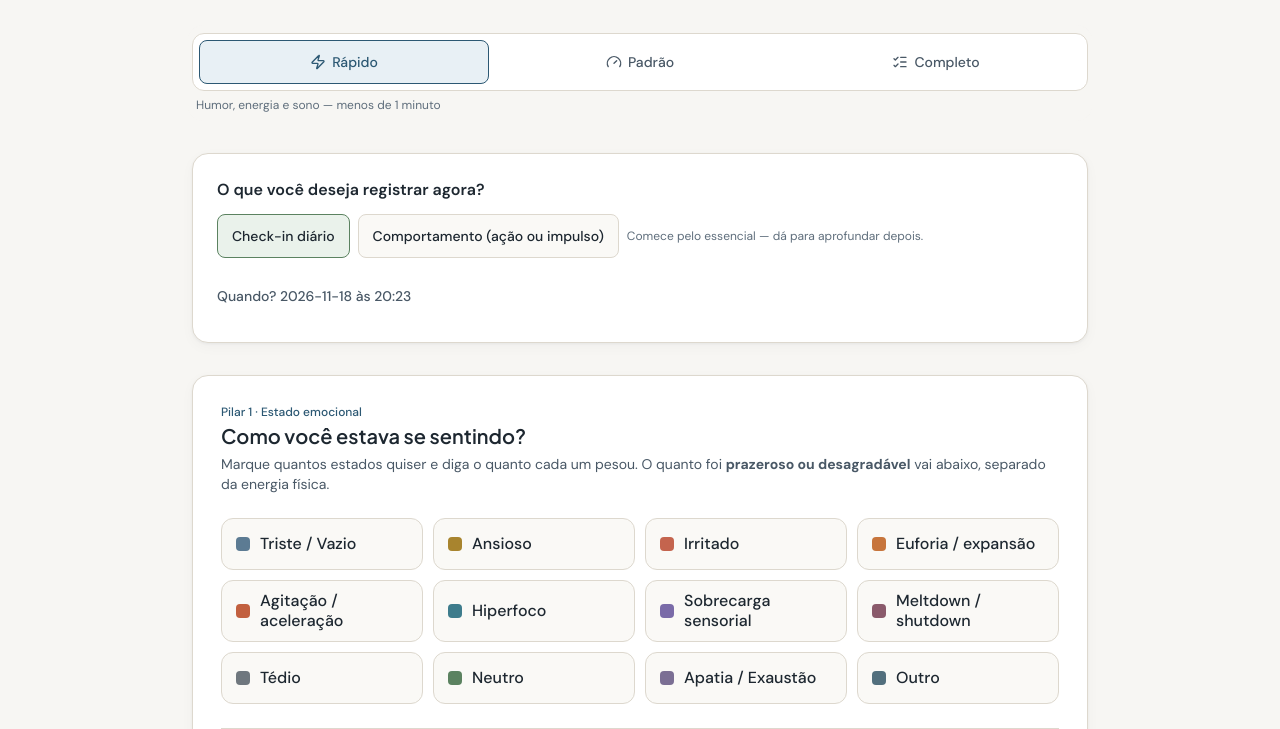
Test case: DailyLogForm › cria um item dentro do Pilar 3 e o deixa pronto para escolher o modo
Click the button "Ansioso" at (534, 544), box [433,518,635,570]
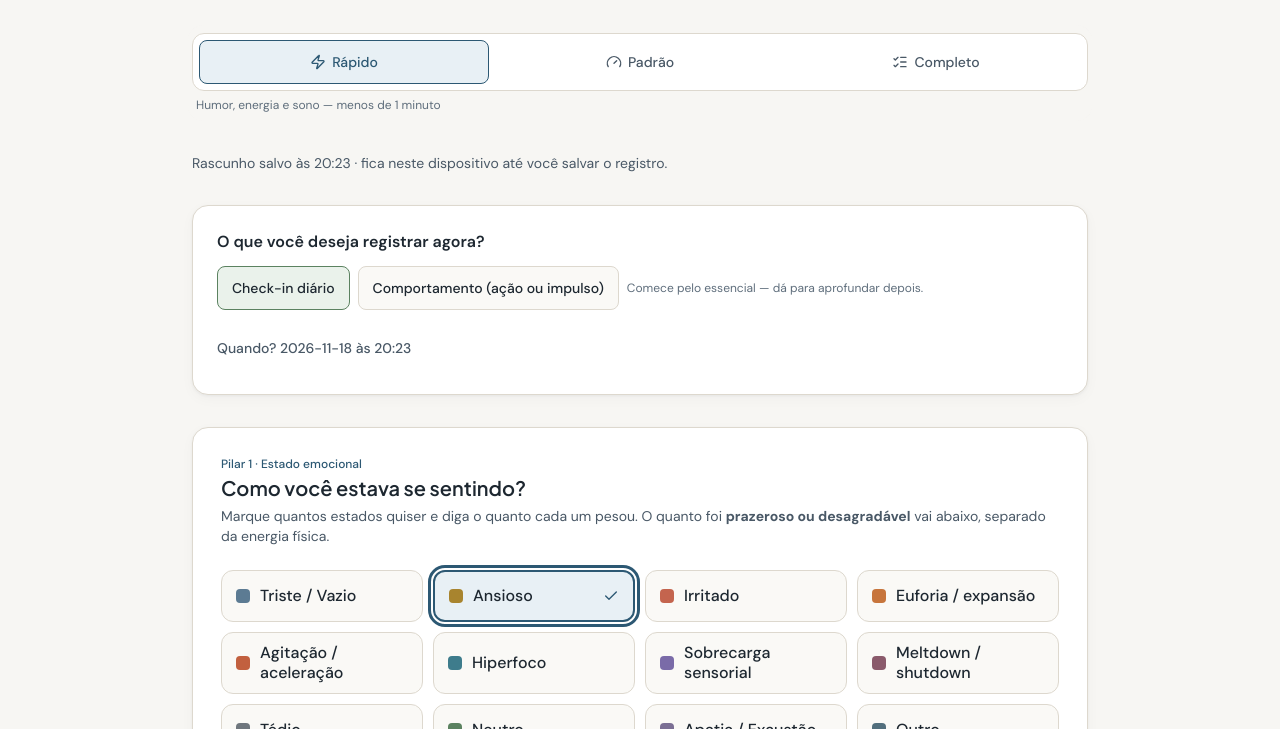
Click the button "Comportamento (ação ou impulso)" at (488, 288), box [358,266,619,310]
(page scrolled)
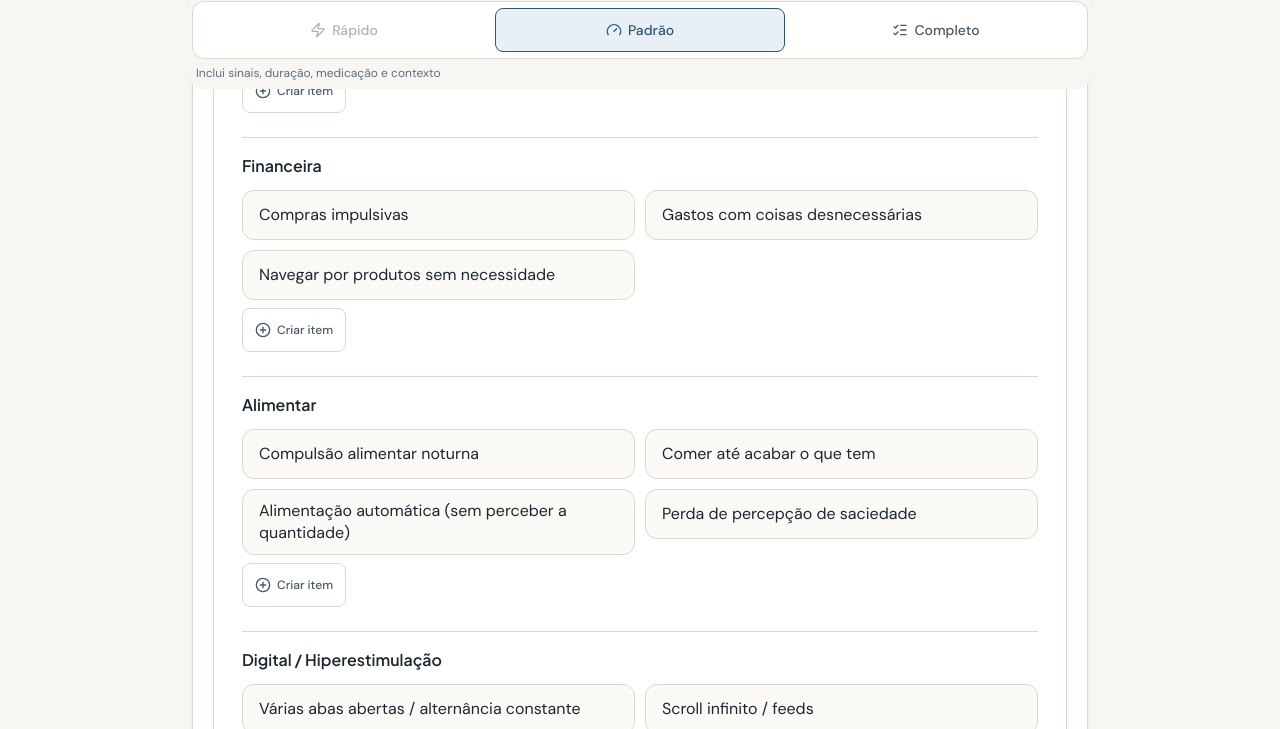
Click the button with aria-label "Criar item em Financeira" at (294, 330), box [242,308,346,352]
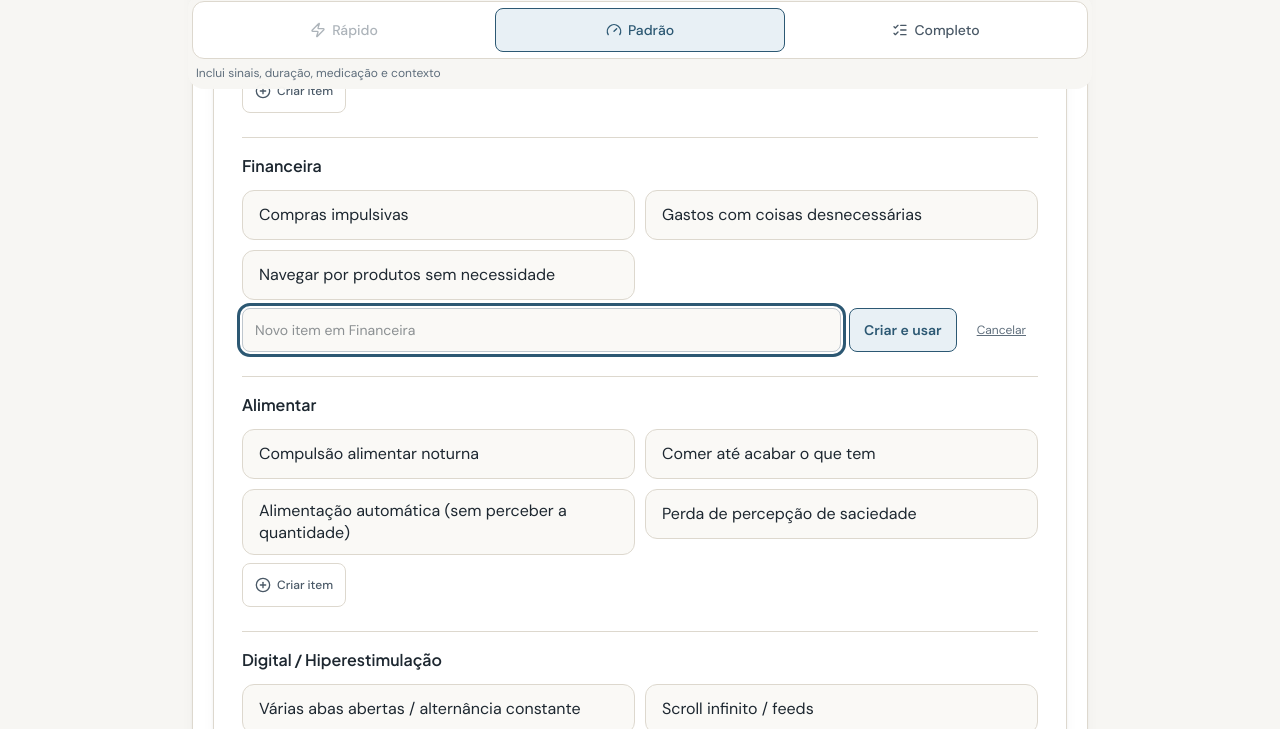
Type "Gastos por impulso" into the field with placeholder "Novo item em Financeira" at (542, 330), box [242,308,841,352]
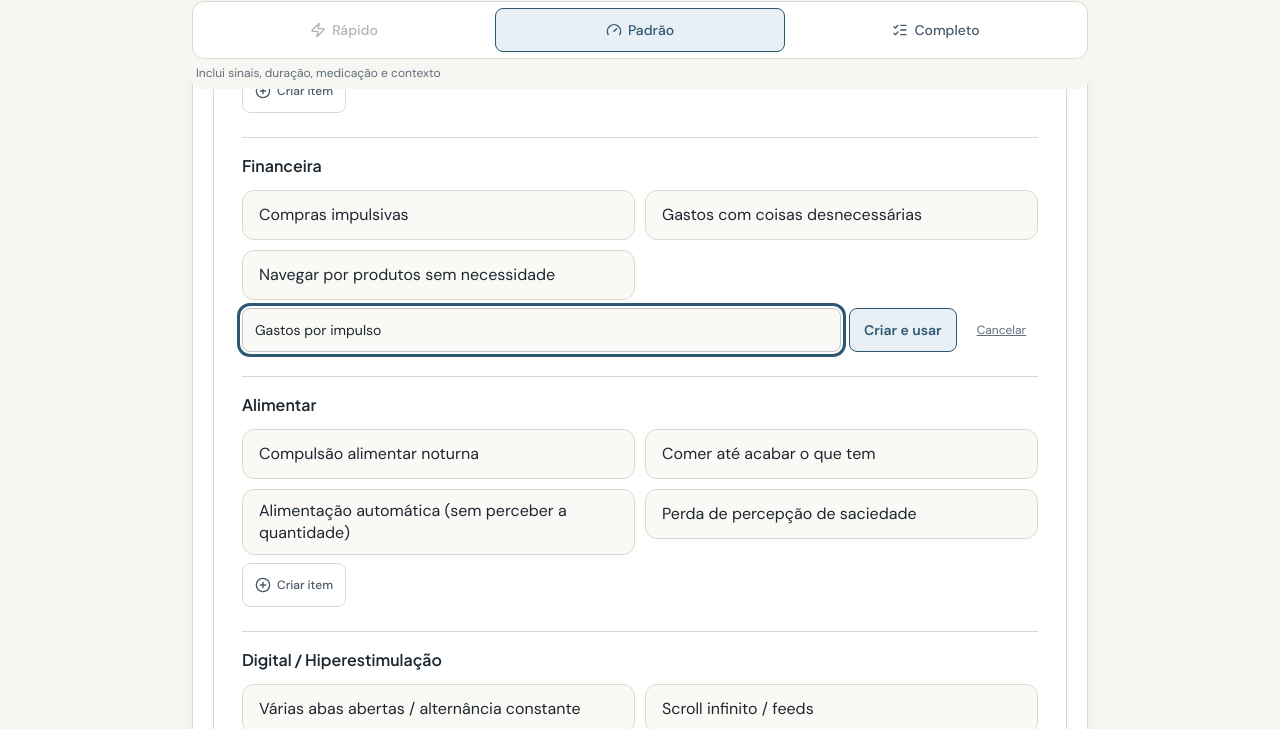
Click the button "Criar e usar" at (903, 330), box [849,308,957,352]
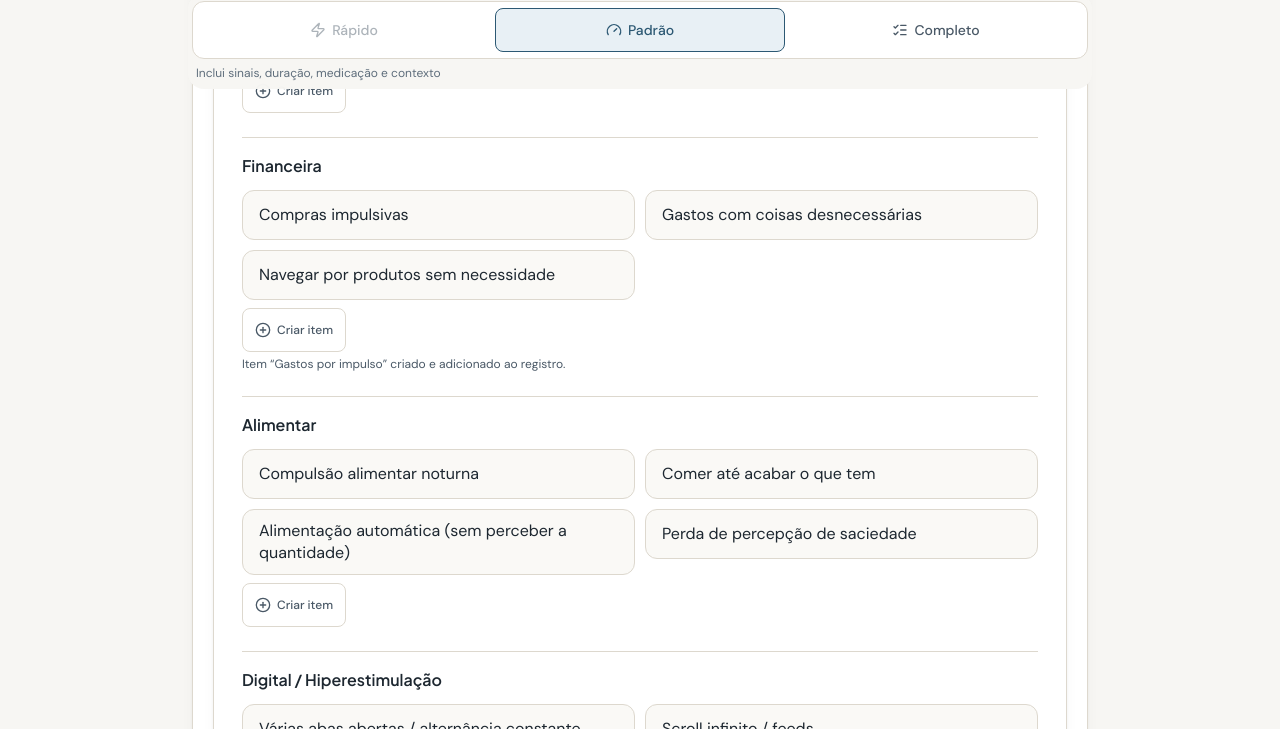
expect the message shows "criado": met, box [242,356,566,372]
